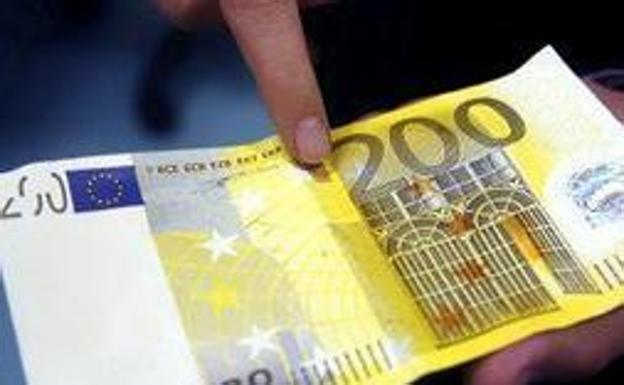billete: (1, 43, 622, 385)
